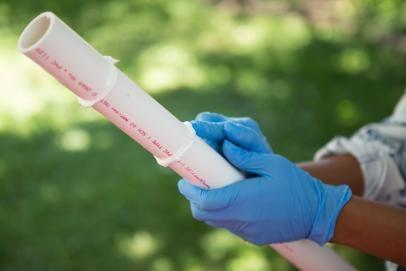PVC: (20, 15, 120, 112), (125, 79, 186, 174)
